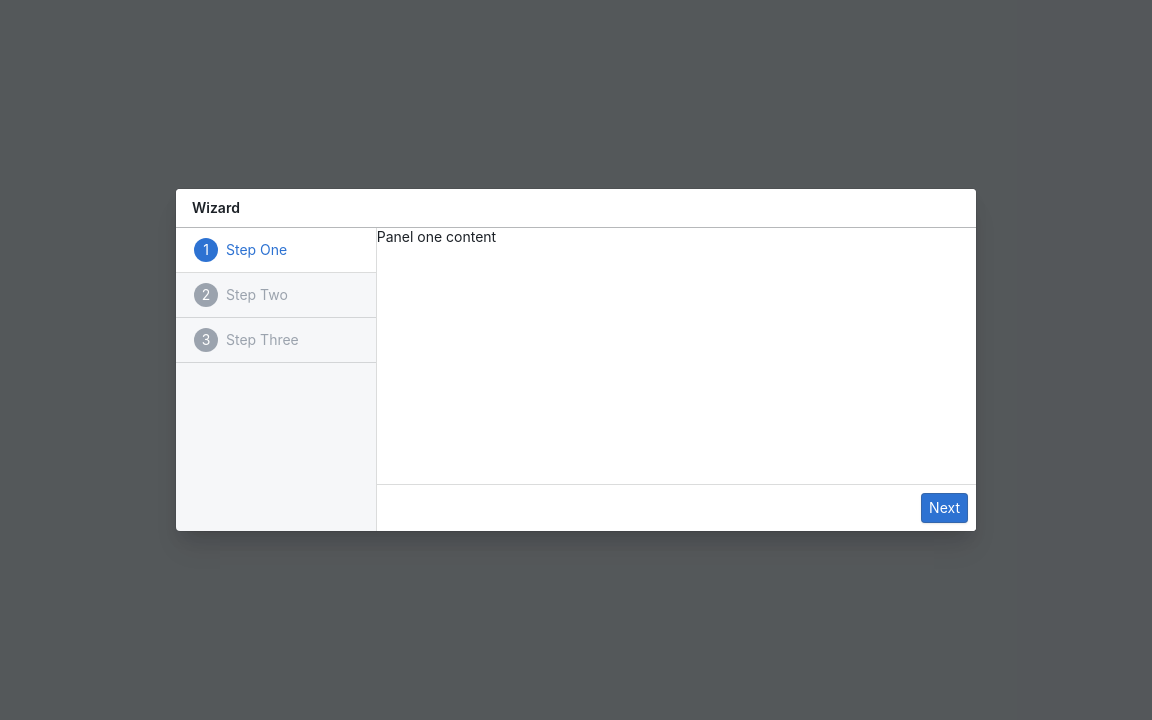
Test: MultistepDialog › Next advances to step 2: panel changes and active step moves
This screenshot has width=1152, height=720.
Click the button "Next" at (945, 508), box [921, 493, 968, 523]
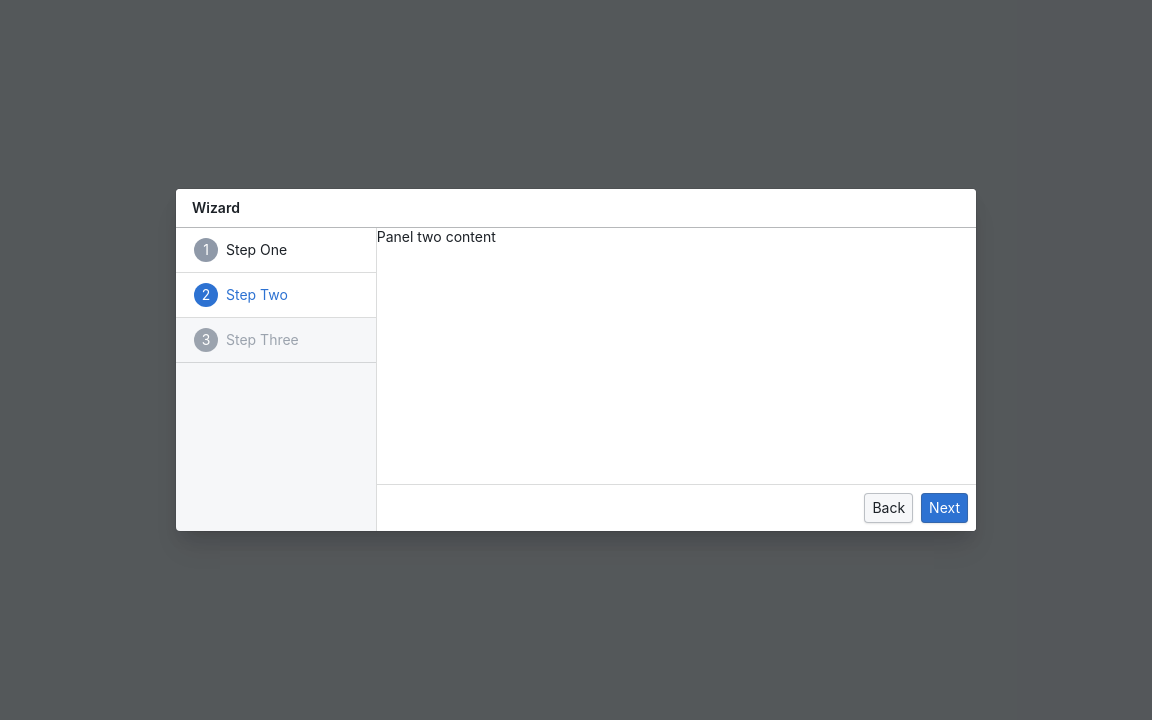
Result: the text "Panel two content" is shown at [377, 228, 496, 245]
Result: the text "Panel one content" is gone
